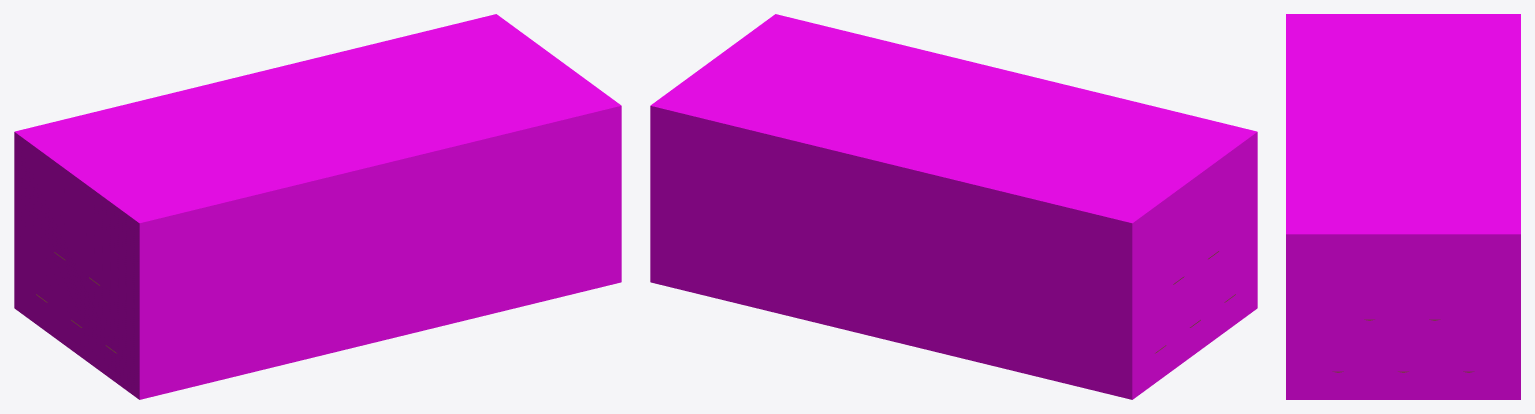
File: PRP_Timber_Pile_A.glb
3 renders of one model, left to right at view 1: azimuth 30°, elevation 25°; view 2: azimuth 150°, elevation 25°; view 3: azimuth 270°, elevation 25°, orthographic. The views are drawn at different scales.
Parts seen in each view (by area): view 1: COL_Pile; view 2: COL_Pile; view 3: COL_Pile.
Part boxes in pixels (x1,y1,x2,y2): COL_Pile: (14, 14, 621, 399); COL_Pile: (650, 14, 1257, 399); COL_Pile: (1286, 14, 1520, 399).
Bounding box in the file's own units: 2.01 × 0.7 × 0.9.
